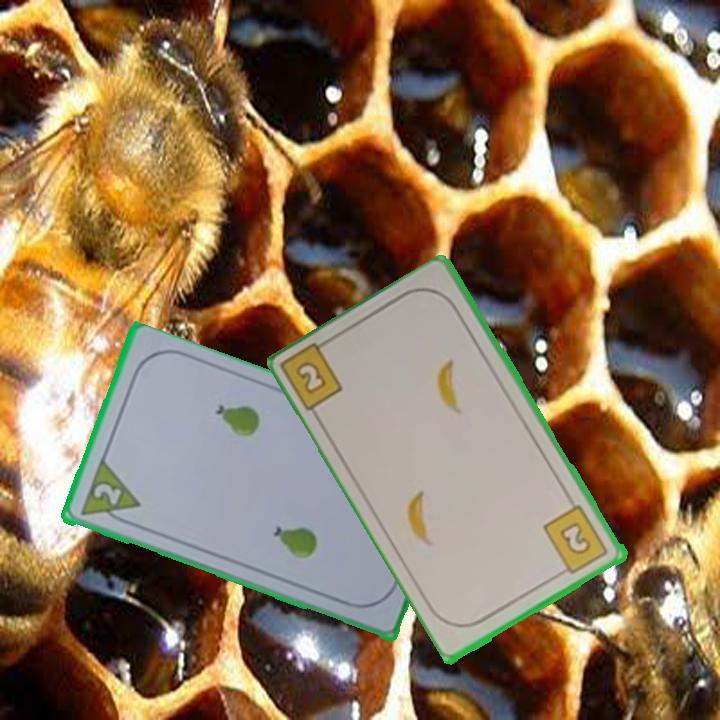2b: (540, 502, 612, 580), (280, 335, 347, 416)
2p: (89, 479, 124, 509)
